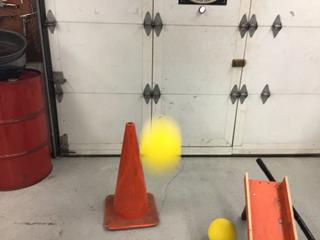power_cell: (130, 117, 188, 177), (208, 214, 235, 240)
